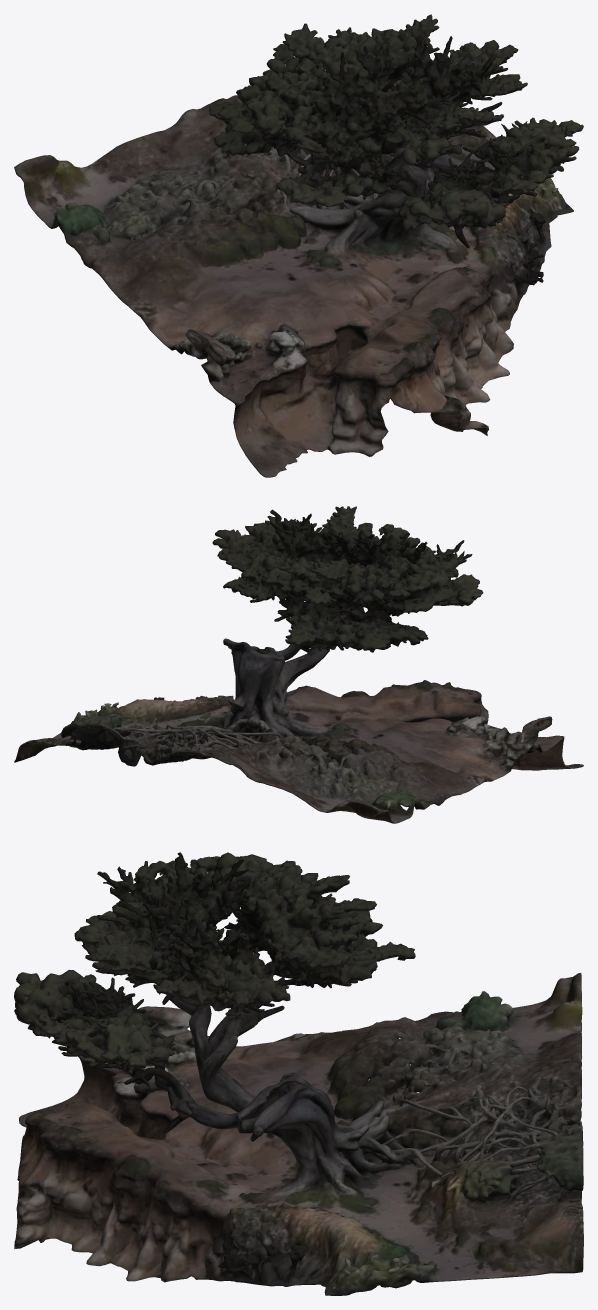
File: twisted coastal tree.glb
The picture shows the model from 3 angles, top to bottom: view 1: azimuth 30°, elevation 25°; view 2: azimuth 150°, elevation 25°; view 3: azimuth 270°, elevation 25°; orthographic projection. The views are drawn at different scales.
Visible parts, largest first — view 1: geometry_0; view 2: geometry_0; view 3: geometry_0.
Part boxes in pixels (x1,y1,x2,y2): geometry_0: (14,14,583,477); geometry_0: (14,506,583,823); geometry_0: (14,852,583,1295).
Size of the model in its own units: 1 by 0.6835 by 0.9852.
1 material, 1 textured.
